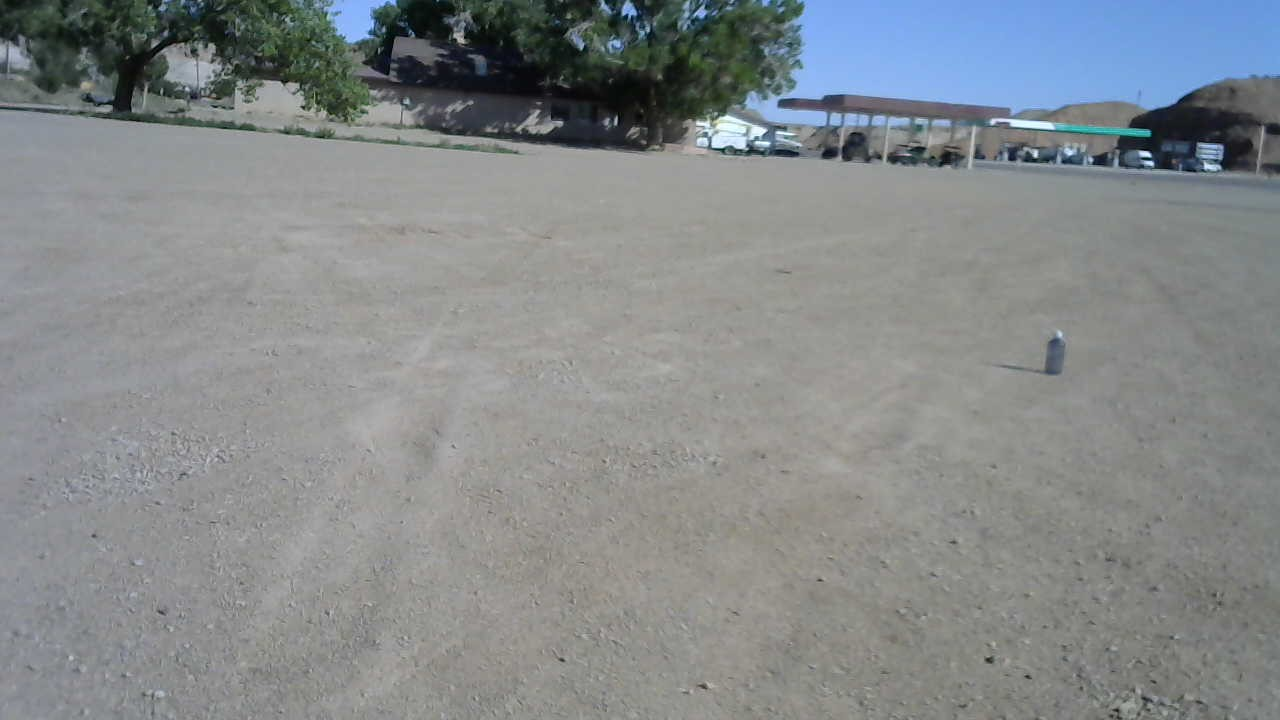bottle: (1039, 319, 1069, 381)
